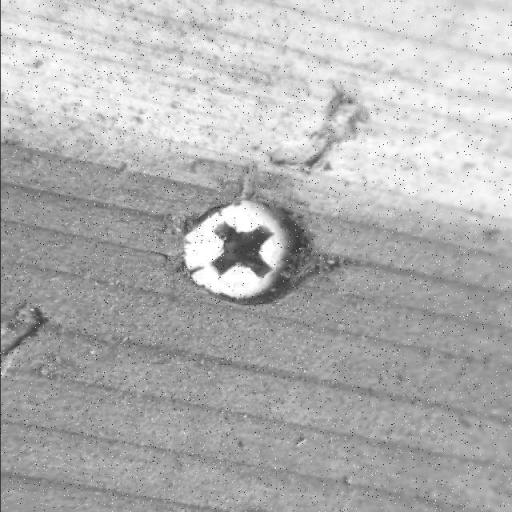Phillips: (182, 190, 306, 302)
